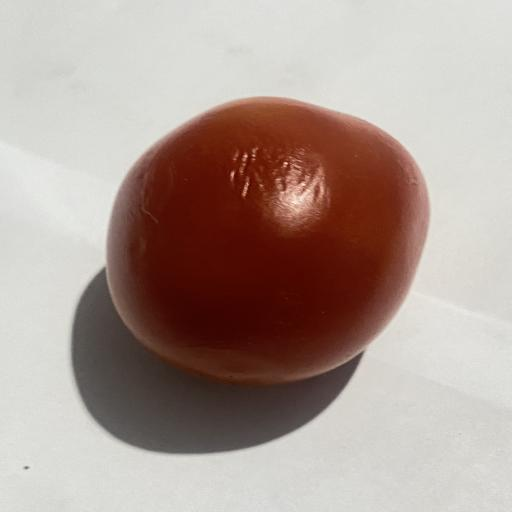overipe: (106, 98, 429, 385)
